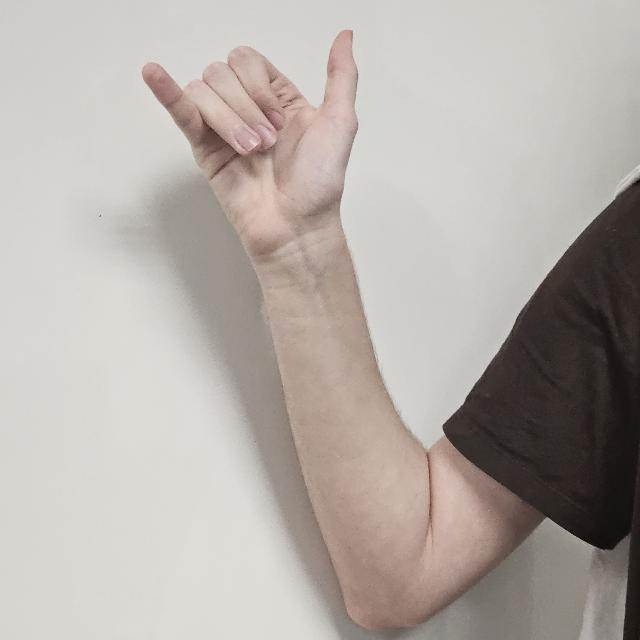Direita: (143, 30, 357, 234)
